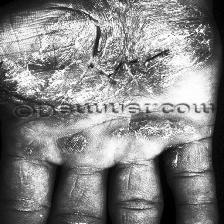Non-Cancerous Skin Condition: (16, 0, 195, 90), (39, 112, 202, 180)
